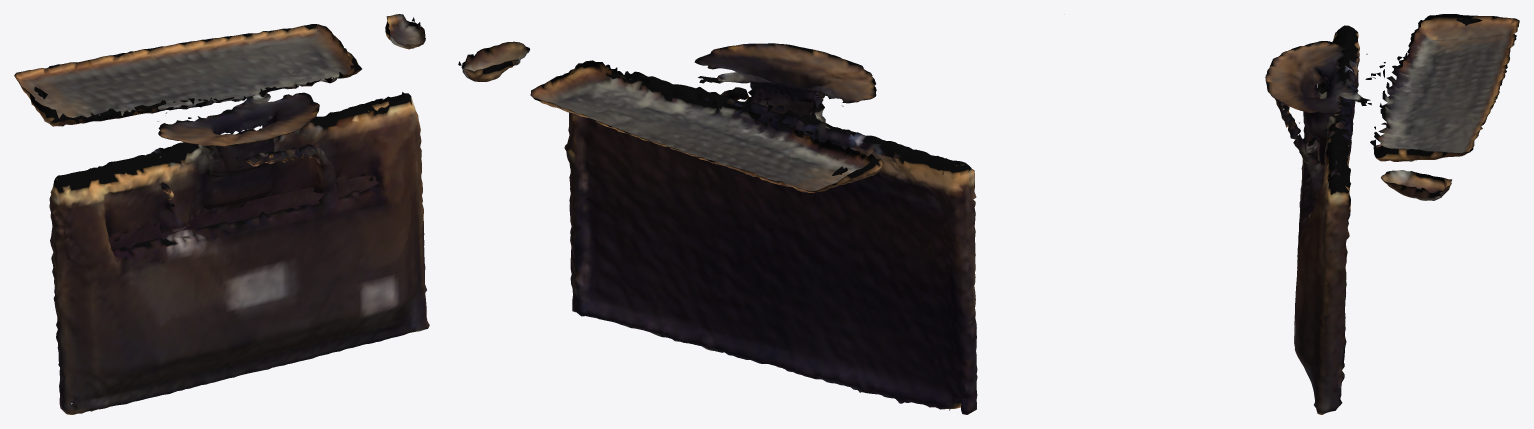
3 views of the same model, side by side, from view 1: azimuth 30°, elevation 25°; view 2: azimuth 150°, elevation 25°; view 3: azimuth 270°, elevation 25° (orthographic). The views are drawn at different scales.
Size of the model in its own units: 0.638 by 0.385 by 0.5878.
